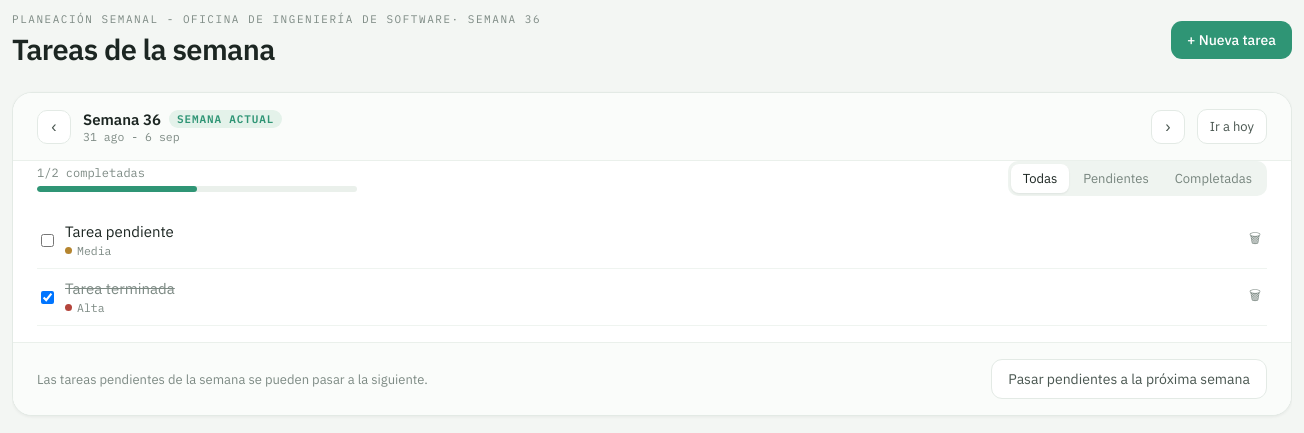
Scenario: TaskListComponent › should show the "Semana actual" badge only for the current week, and hide it after navigating away
Check: the text "Semana actual" is shown, box [169, 110, 282, 128]
Click the button named "Semana siguiente". click: x=1168, y=126
box: [1151, 110, 1185, 144]
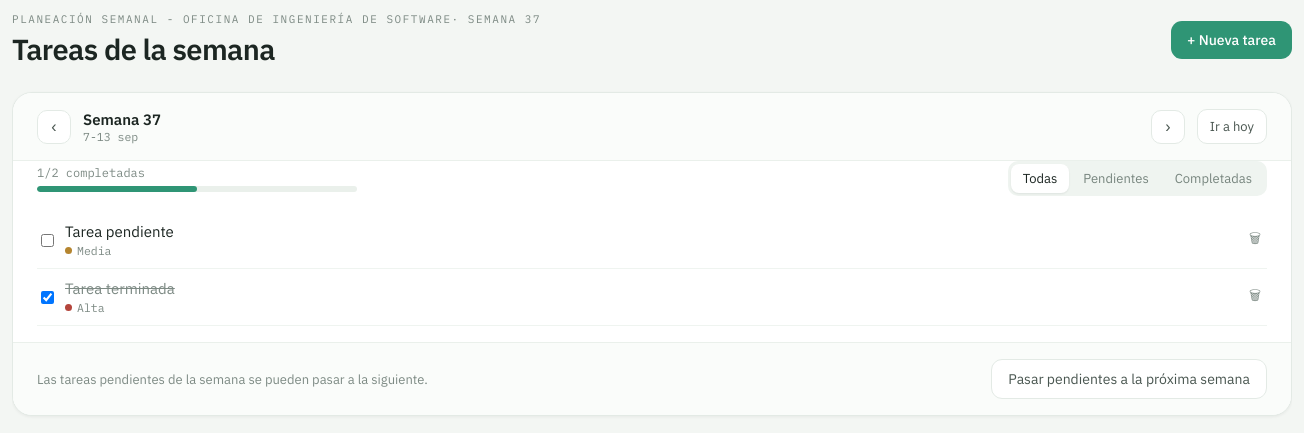
Check: the text with class "current-badge" is gone
